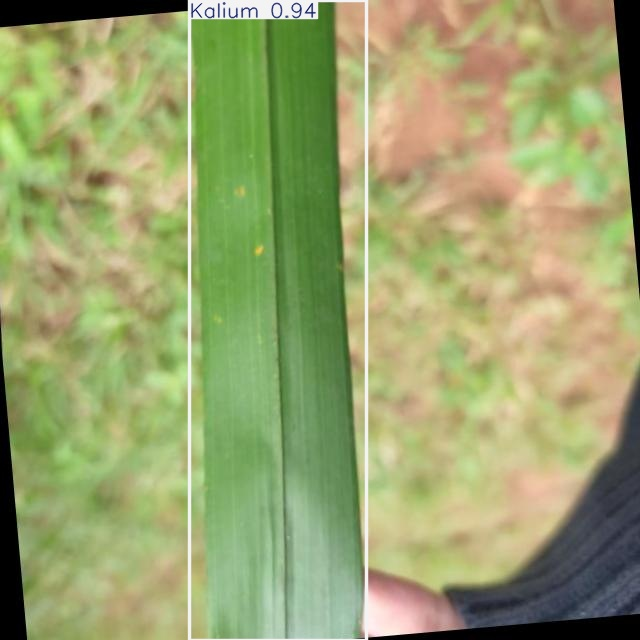Kalium: (190, 0, 366, 640)
